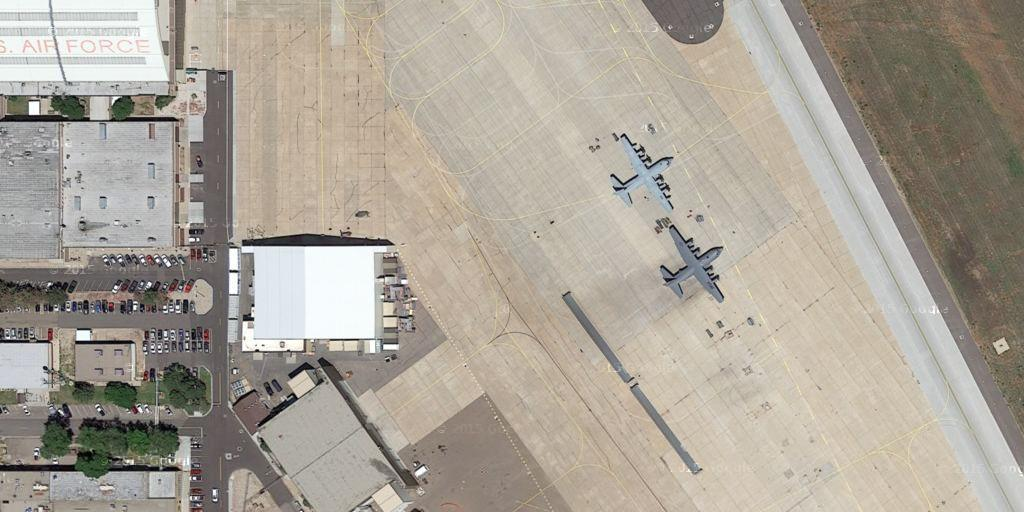C-130: (654, 220, 729, 308), (604, 132, 681, 215)
